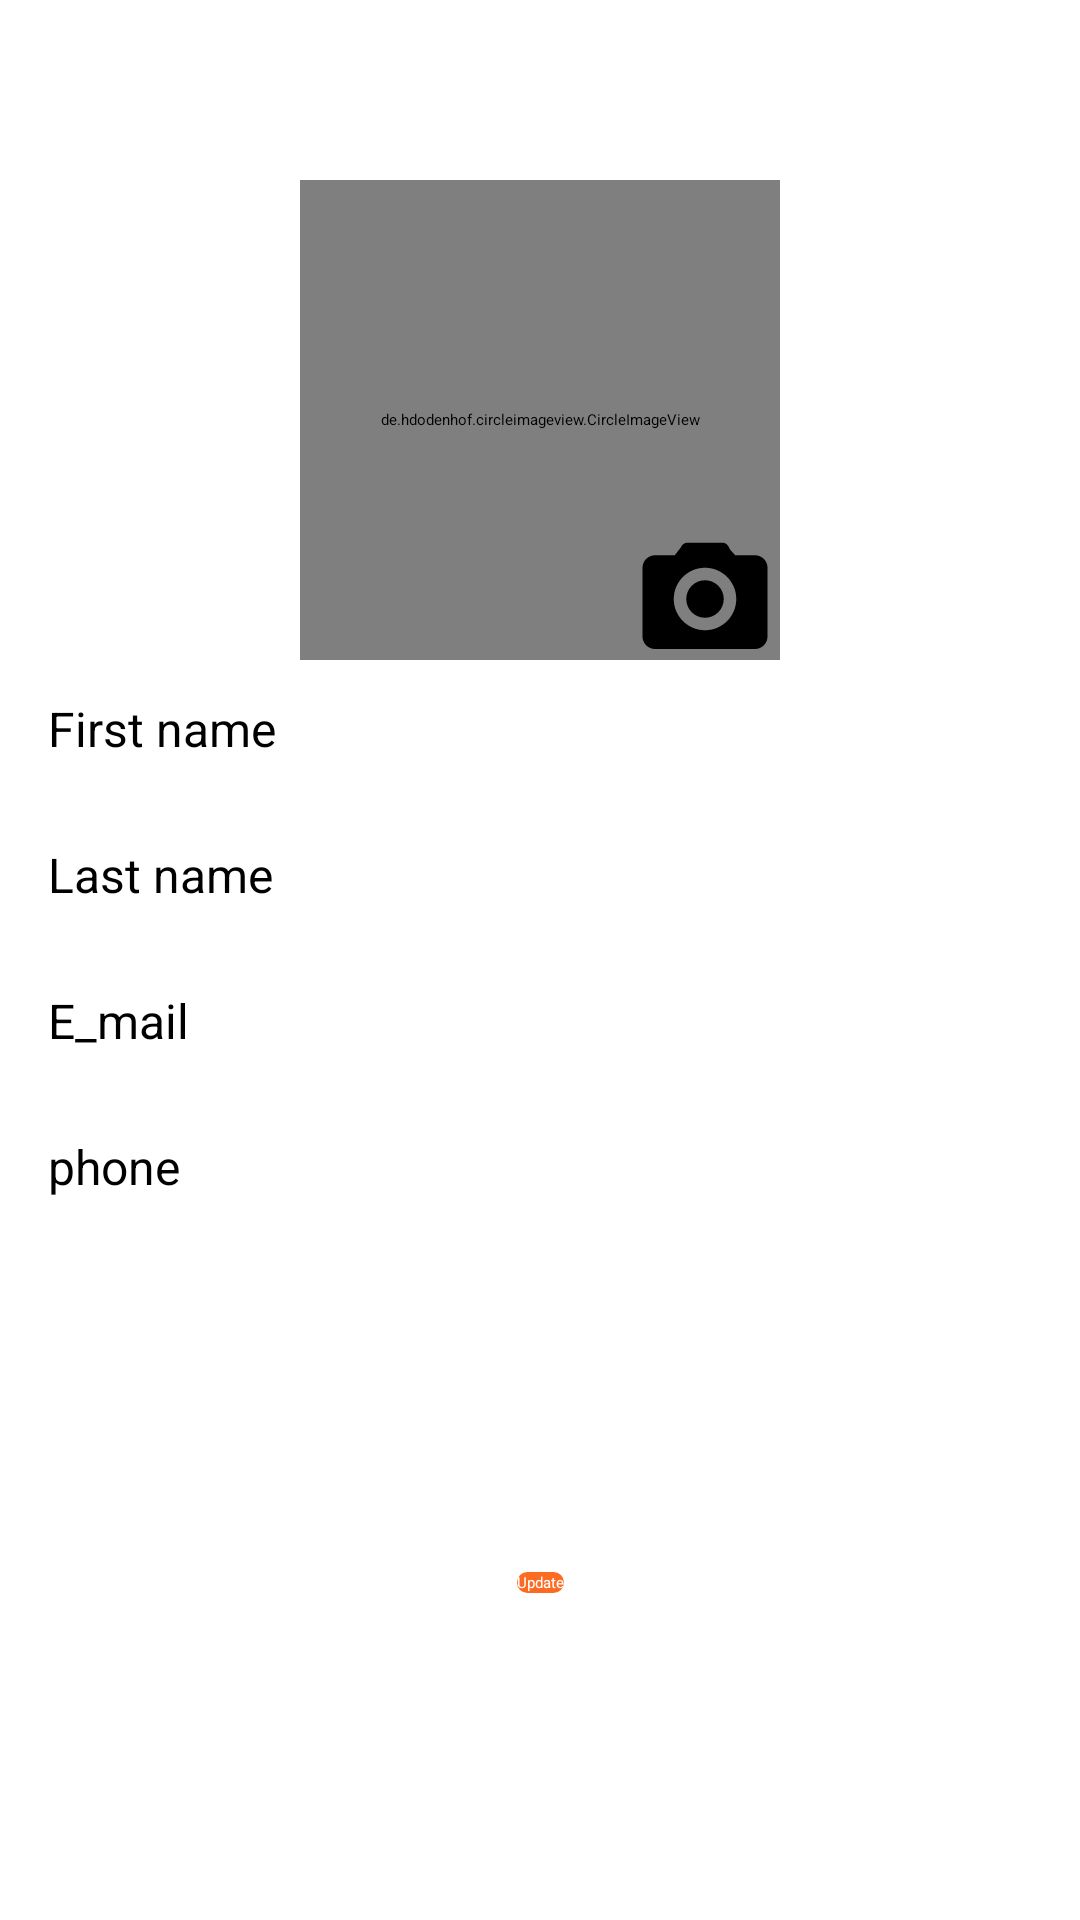

Icons on this 1080px x 1920px Android screen, each with the point to tap as (x=x, y=y):
Change Profile Picture: (x=705, y=599)
